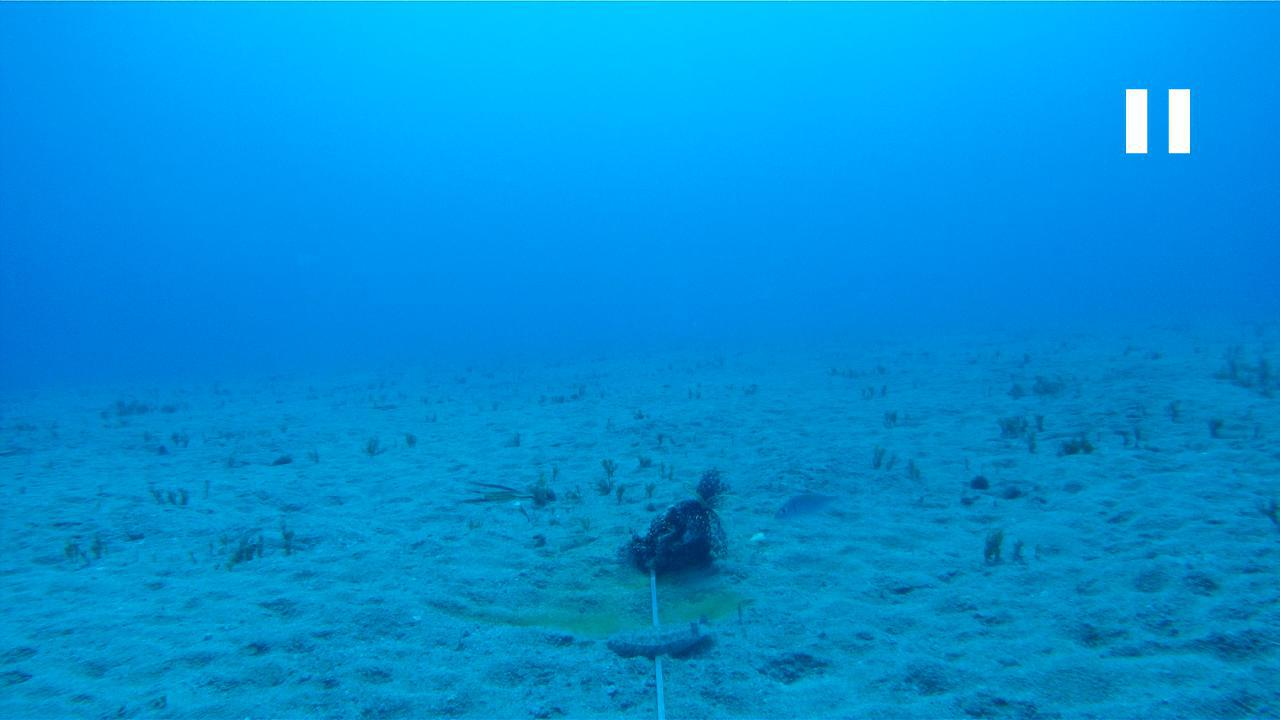bothus: (602, 610, 722, 657)
pagellus: (772, 487, 846, 521)
